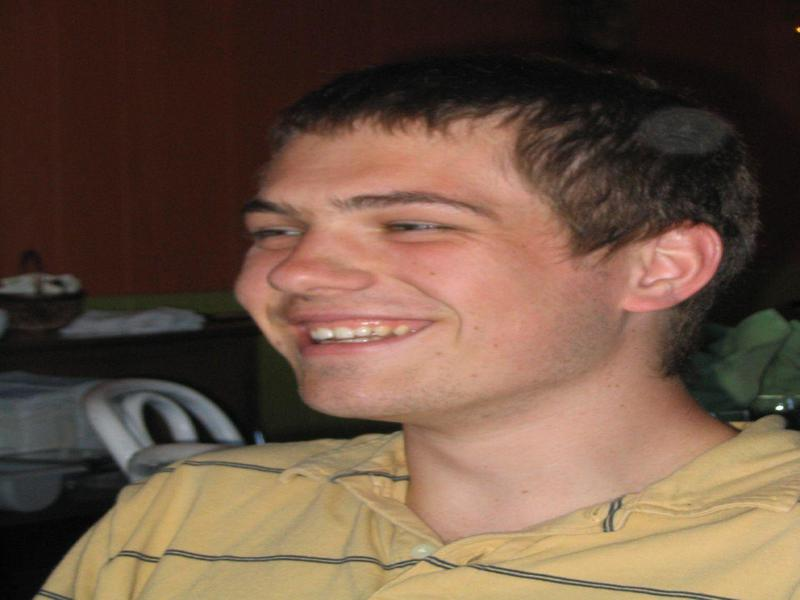person: (39, 54, 800, 599)
